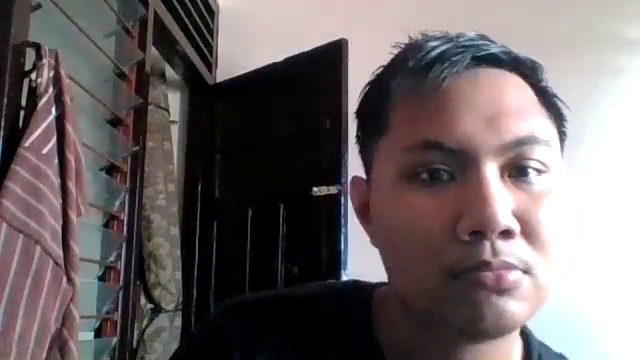Not Distracted: (347, 106, 576, 333)
